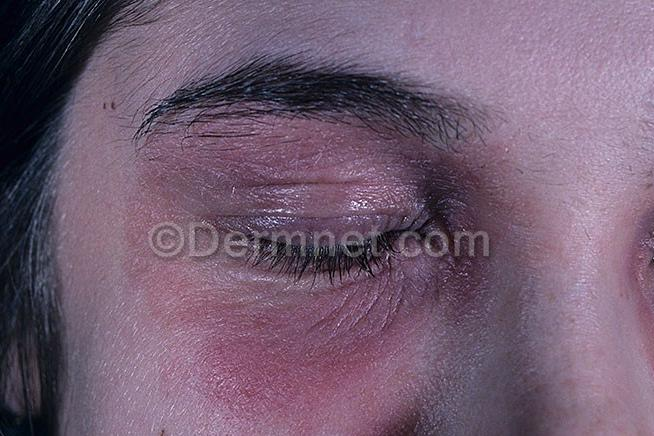Eritema 2: (125, 146, 497, 428)
xerosis 1: (137, 153, 346, 204)
